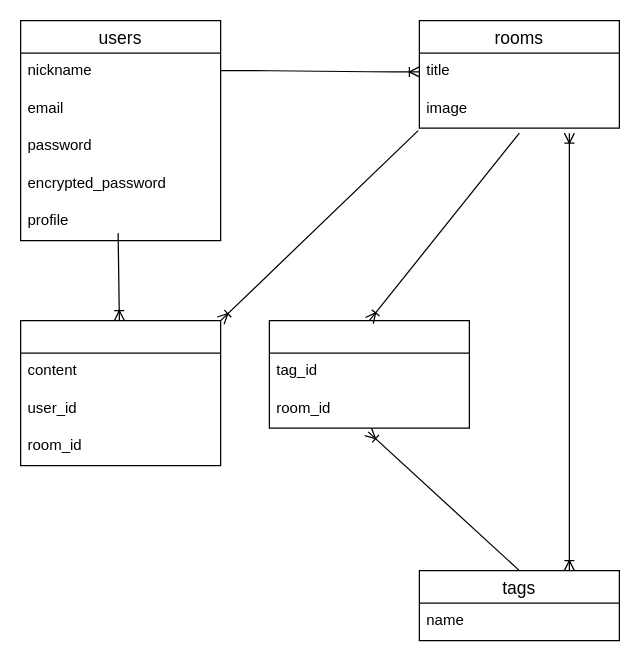
This 640x661 diagram has some shape labels left out. Here are the shapes that lost their labels. From the top down, the box of each, then its label:
(19, 319, 221, 466): messages
(268, 319, 469, 428): room_tag_relations
